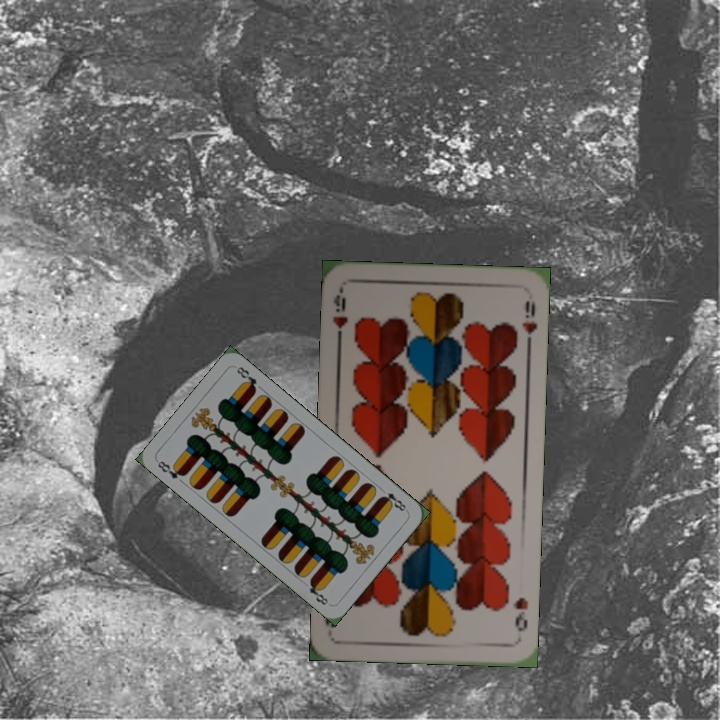E8: (376, 484, 410, 514), (153, 457, 189, 482)
H9: (328, 285, 350, 345), (510, 594, 531, 634)
